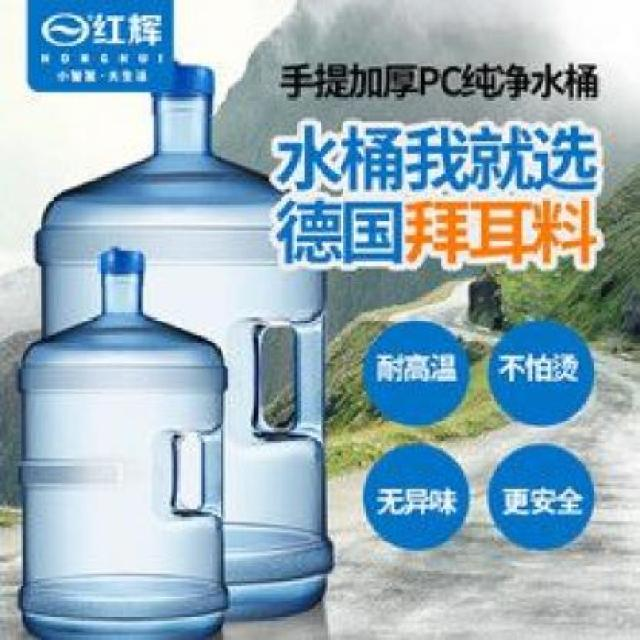coolerbottle: (12, 243, 232, 640)
